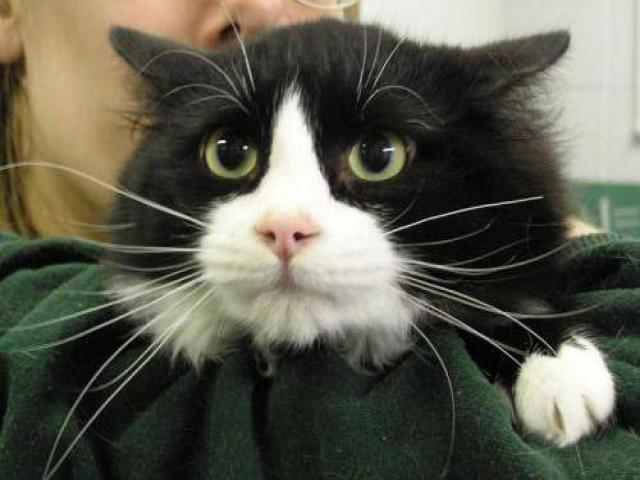cat: (101, 18, 633, 435)
